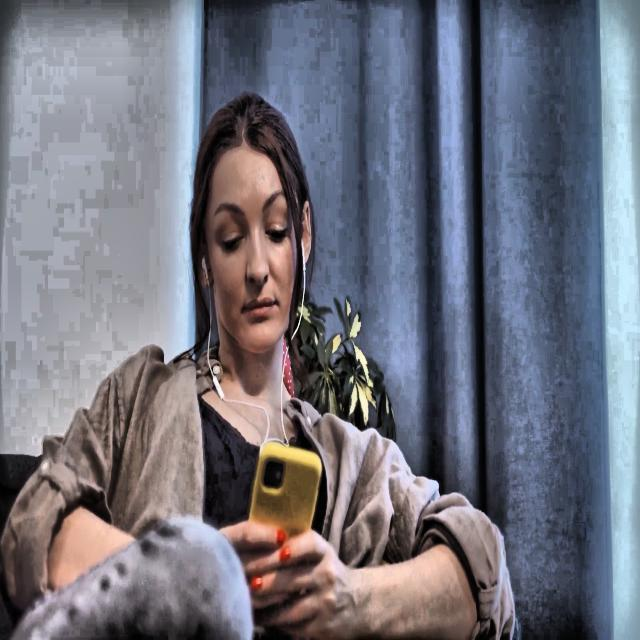Phone: (248, 441, 323, 545)
